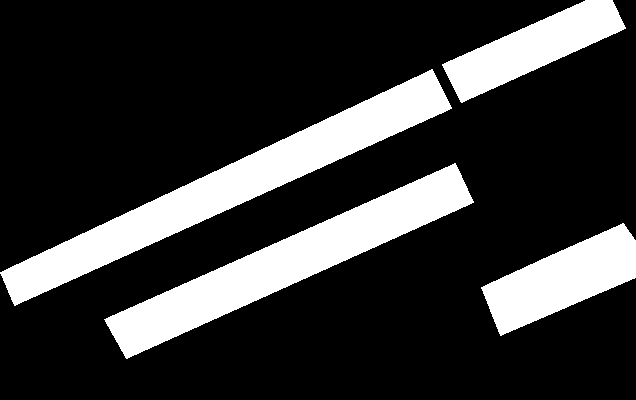parkingspot: (0, 69, 451, 305), (104, 163, 473, 358), (442, 0, 625, 102), (481, 223, 636, 335)
